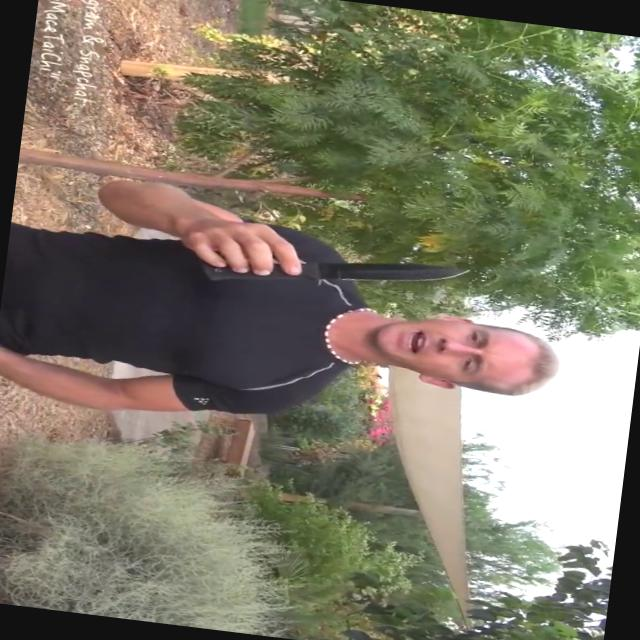knife: (303, 231, 467, 312)
